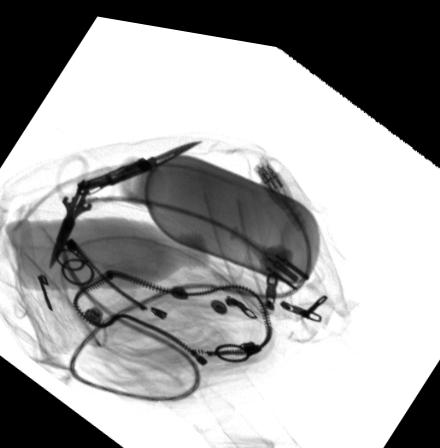Knife: (74, 132, 201, 192)
Scissors: (48, 148, 120, 269)
